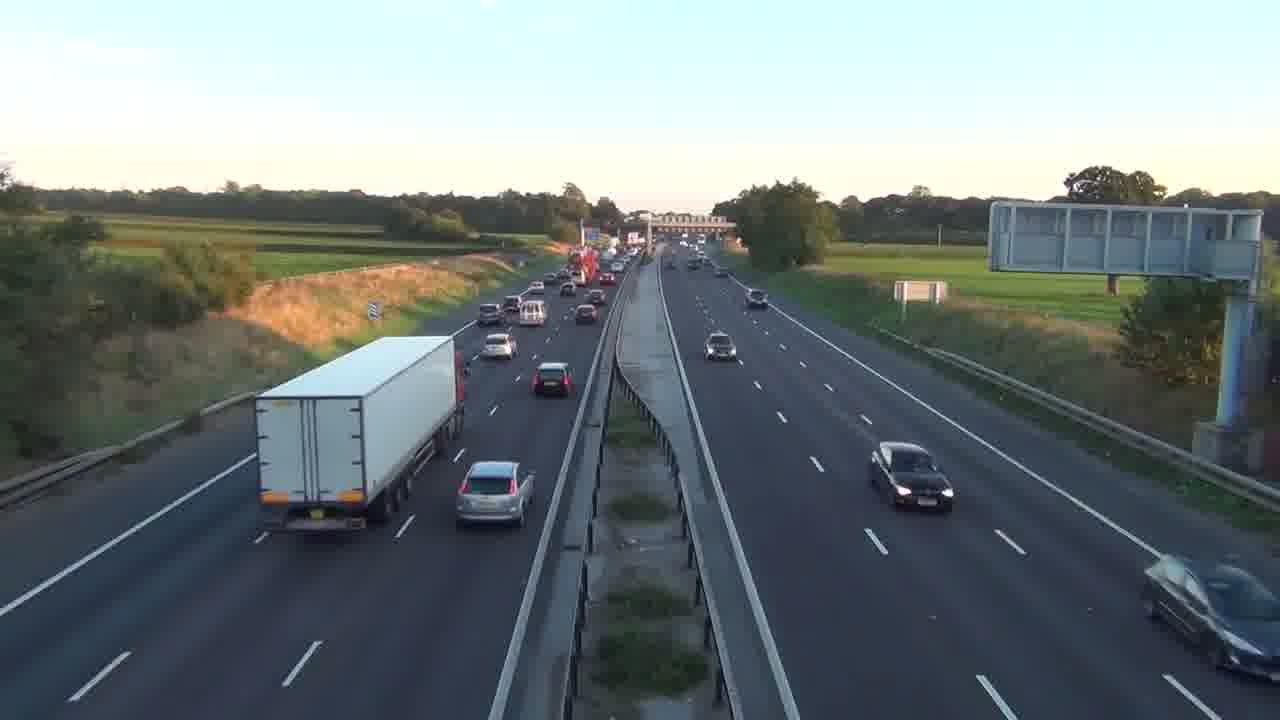car: (869, 440, 957, 513), (455, 460, 537, 529), (531, 360, 575, 398), (479, 332, 517, 359), (705, 332, 739, 362), (574, 303, 597, 325)
truck: (254, 332, 466, 532), (1141, 551, 1279, 683)
